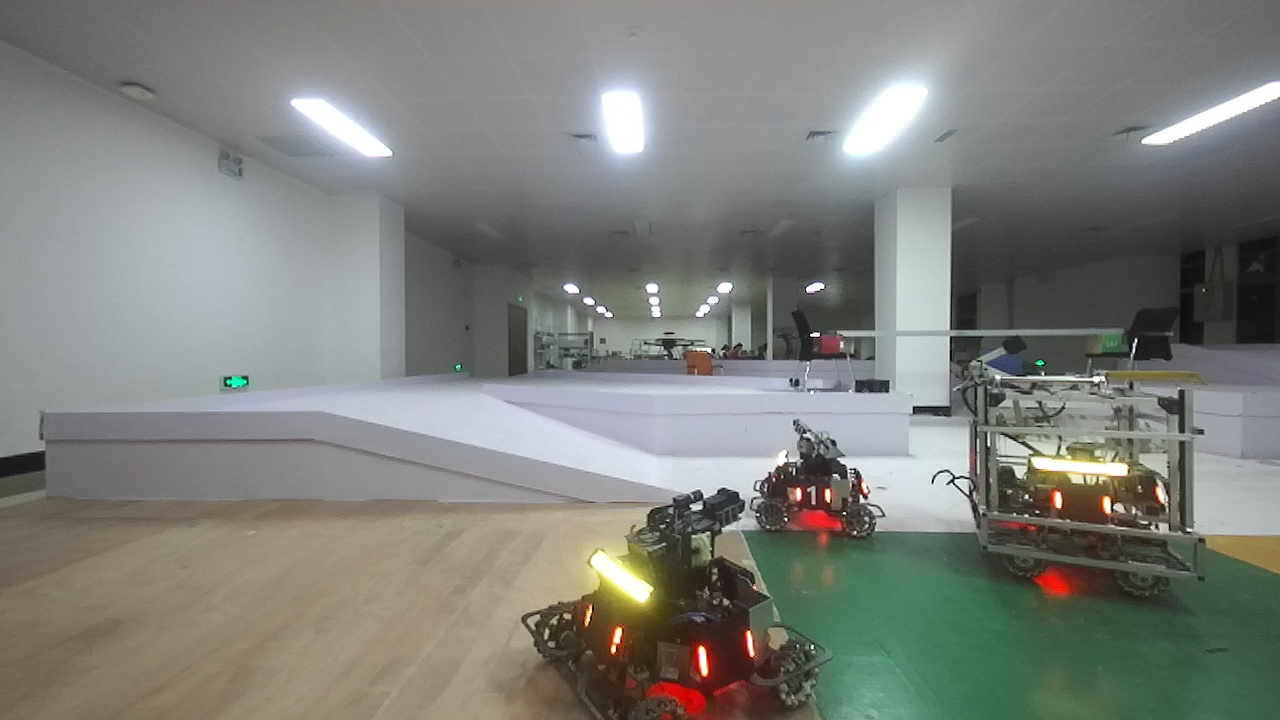car: (953, 337, 1218, 595), (527, 496, 805, 718), (750, 430, 899, 531)
